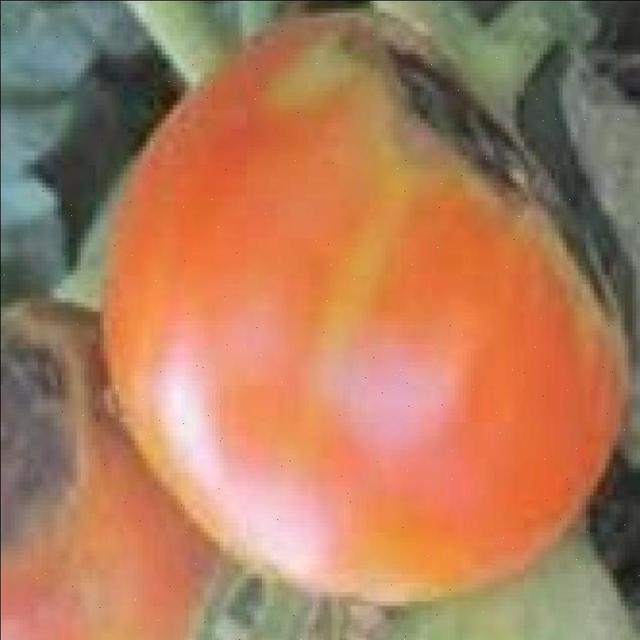Blossom End Rot Fruit: (25, 125, 331, 298)
